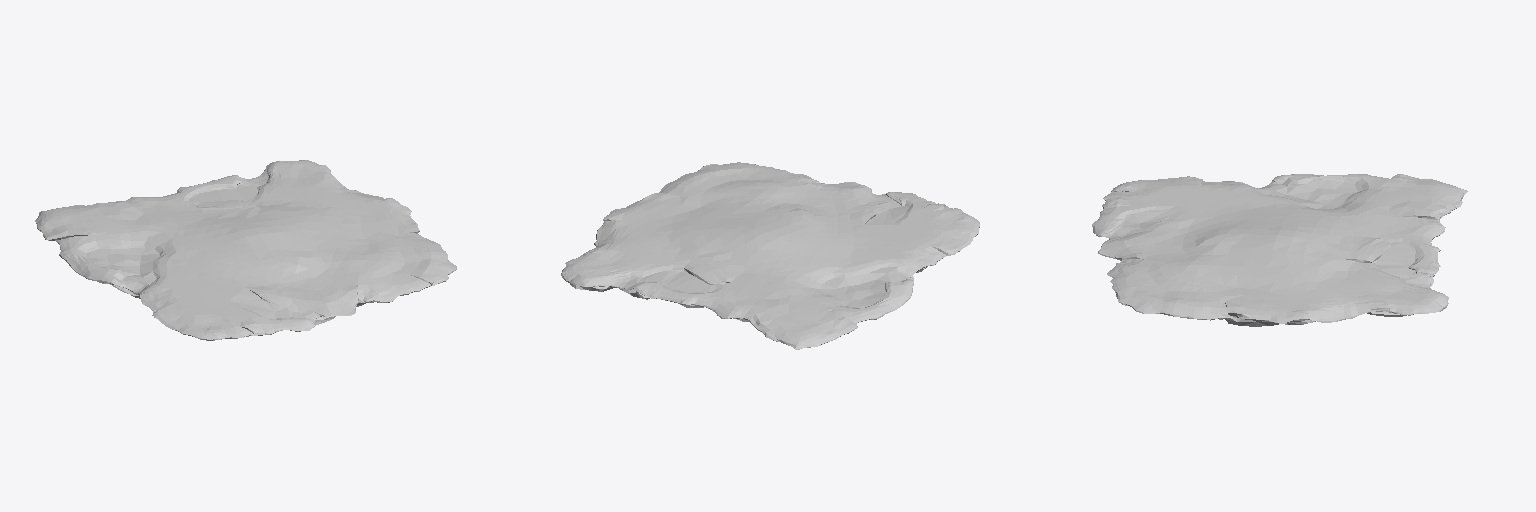
Rendered from land.obj.
The picture shows the model from 3 angles: view 1: azimuth 30°, elevation 25°; view 2: azimuth 150°, elevation 25°; view 3: azimuth 270°, elevation 25°; orthographic projection.
Visible parts, largest first — view 1: node_id60; view 2: node_id60; view 3: node_id60.
Boxes of the visible parts, <box> form: node_id60: <box>35,160,456,340</box>; node_id60: <box>561,162,979,349</box>; node_id60: <box>1092,174,1467,326</box>.
Bounding box in the file's own units: 1.18 × 0.1592 × 1.24.